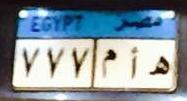7: (44, 44, 65, 80), (21, 44, 42, 78), (71, 45, 89, 80)
alif: (126, 44, 142, 82)
haa: (146, 52, 170, 80)
meem: (101, 47, 116, 81)
